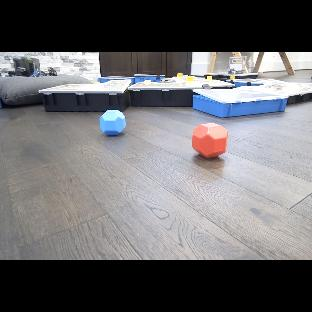V5_BLUE: (100, 110, 126, 135)
V5_RED: (192, 123, 229, 159)
